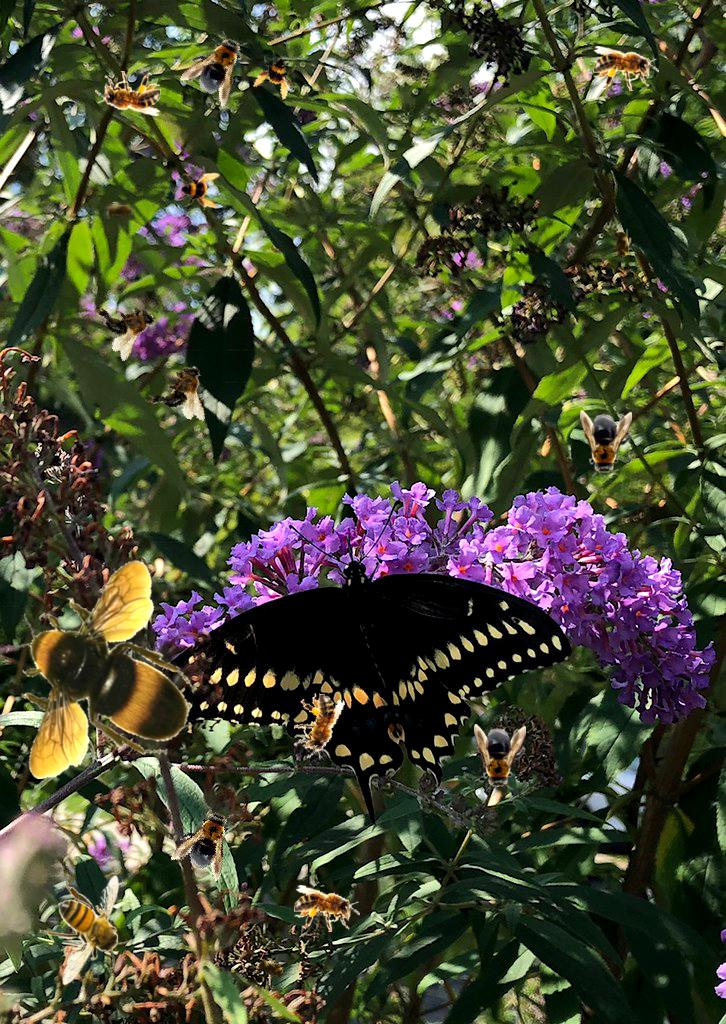Bee: (6, 559, 197, 779), (39, 875, 133, 986), (178, 22, 258, 108), (169, 798, 245, 882), (90, 283, 167, 363), (143, 354, 220, 424), (288, 689, 346, 764), (292, 884, 362, 935), (474, 724, 526, 792), (580, 410, 632, 478), (250, 47, 306, 103), (95, 71, 161, 116), (593, 46, 659, 91), (176, 166, 220, 210), (248, 951, 294, 989), (100, 201, 140, 223), (610, 225, 632, 265)
